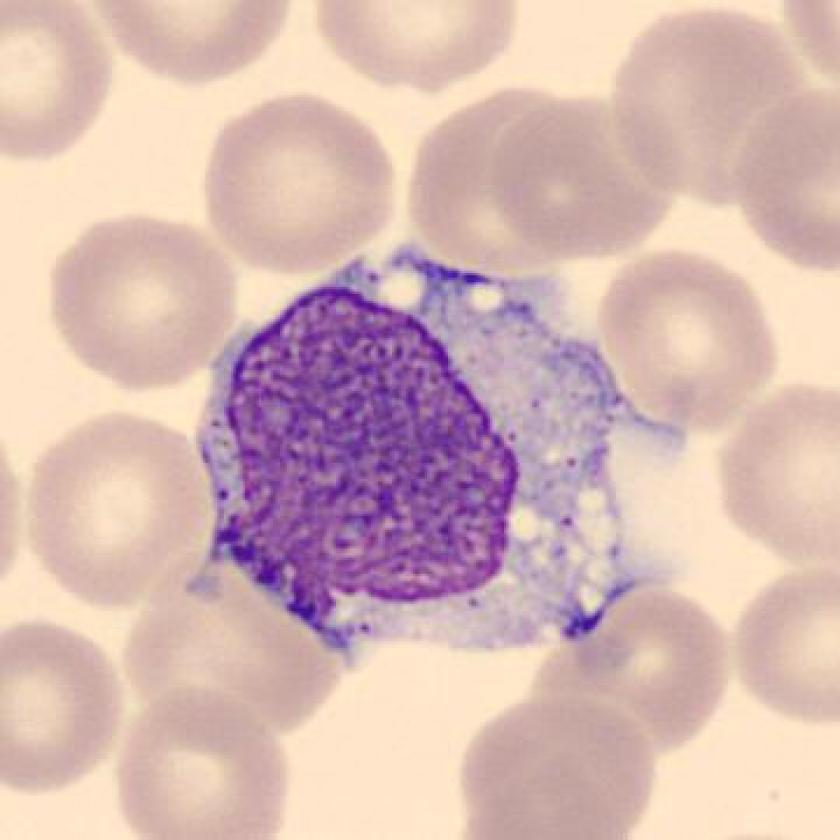monocyte: (185, 228, 727, 686)
